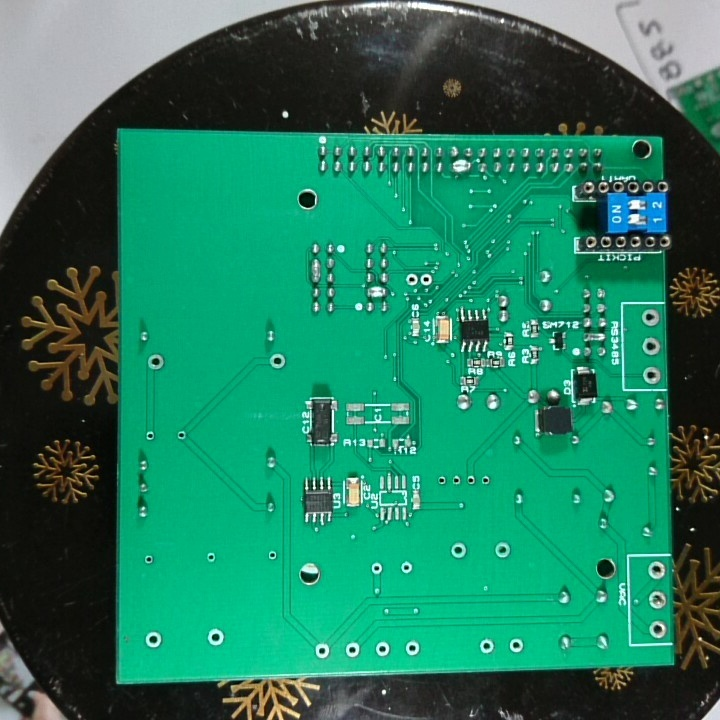F: (640, 335, 663, 359), (142, 630, 165, 654), (641, 363, 663, 386), (205, 626, 227, 649), (447, 540, 469, 563), (492, 540, 515, 562), (639, 308, 662, 329), (402, 638, 425, 659), (648, 588, 668, 612), (145, 352, 167, 373), (646, 559, 666, 582), (477, 636, 497, 657), (373, 639, 393, 660), (267, 351, 288, 371), (312, 640, 331, 662), (648, 618, 666, 640), (508, 636, 527, 656), (342, 641, 362, 660), (417, 269, 434, 291), (402, 271, 421, 289), (397, 559, 414, 578), (462, 472, 477, 491), (142, 427, 158, 444), (369, 560, 385, 577), (174, 427, 189, 445), (142, 552, 158, 568), (265, 547, 279, 565), (479, 472, 493, 490), (435, 472, 448, 491), (204, 550, 218, 566), (449, 474, 463, 489)
P: (308, 255, 323, 284), (580, 330, 608, 344), (364, 285, 388, 301), (448, 158, 471, 174)
